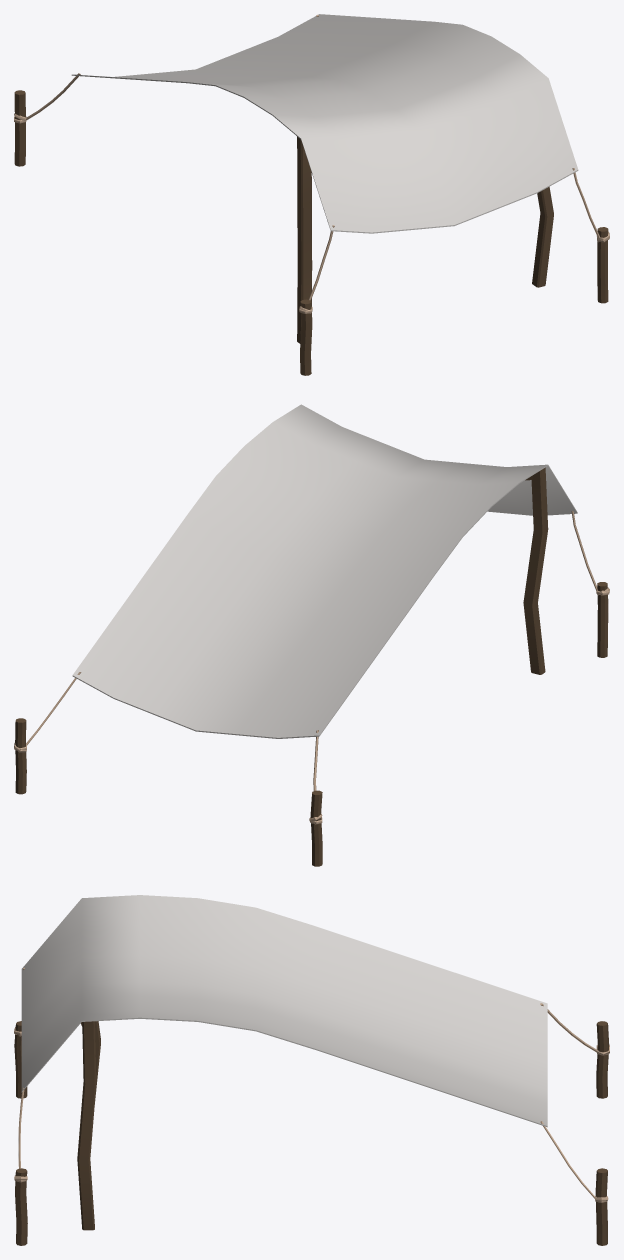
File: Bandit_Tent.fbx
The picture shows the model from 3 angles, top to bottom: view 1: azimuth 30°, elevation 25°; view 2: azimuth 150°, elevation 25°; view 3: azimuth 270°, elevation 25°; orthographic projection.
Visible parts, largest first — view 1: Bandit_tent; view 2: Bandit_tent; view 3: Bandit_tent.
Part boxes in pixels (<box>): Bandit_tent: <box>14,14,609,375</box>; Bandit_tent: <box>14,404,609,866</box>; Bandit_tent: <box>14,895,609,1245</box>.
Size of the model in its own units: 6.28 by 4.06 by 10.26.
